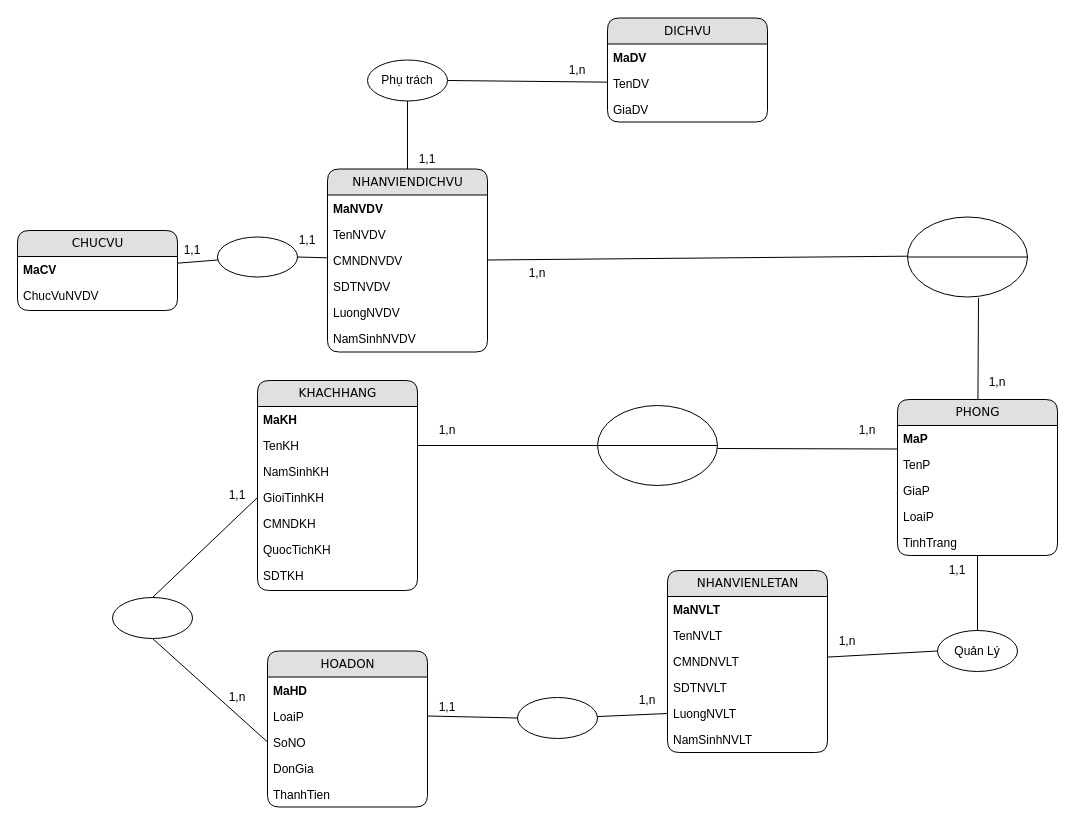
Some shapes in this 1075 by 827 pixel diagram are drawn without their labels. Here are the shapes that lost their labels. From the top down, the centre of each, then its label:
point (257, 256): Có
point (967, 256): PHUCVU DonGia NgaySDDV
point (657, 445): DANGKY NgayDK
point (152, 617): Thanh Toán
point (557, 717): Lặp
